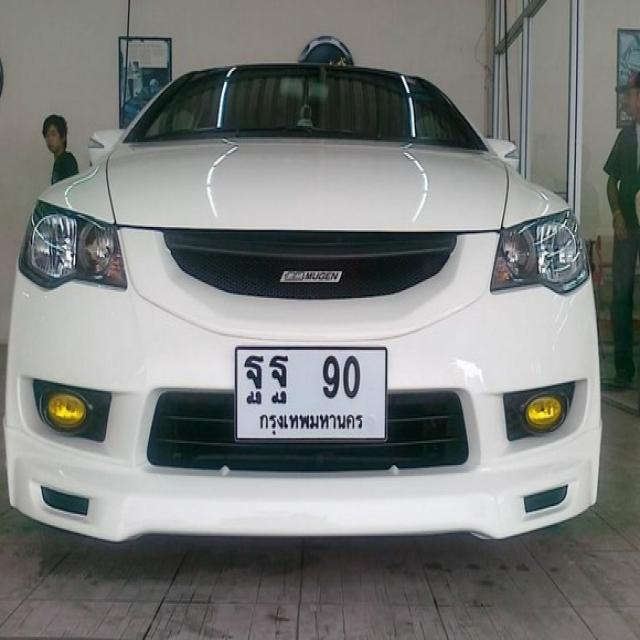license_plate: (232, 338, 391, 452)
